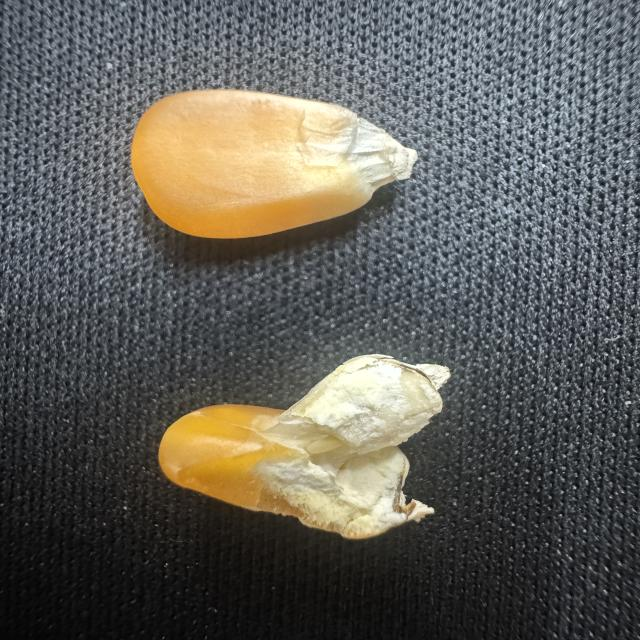Bad-Seed: (148, 340, 462, 550)
Good-Seed: (126, 85, 430, 253)
